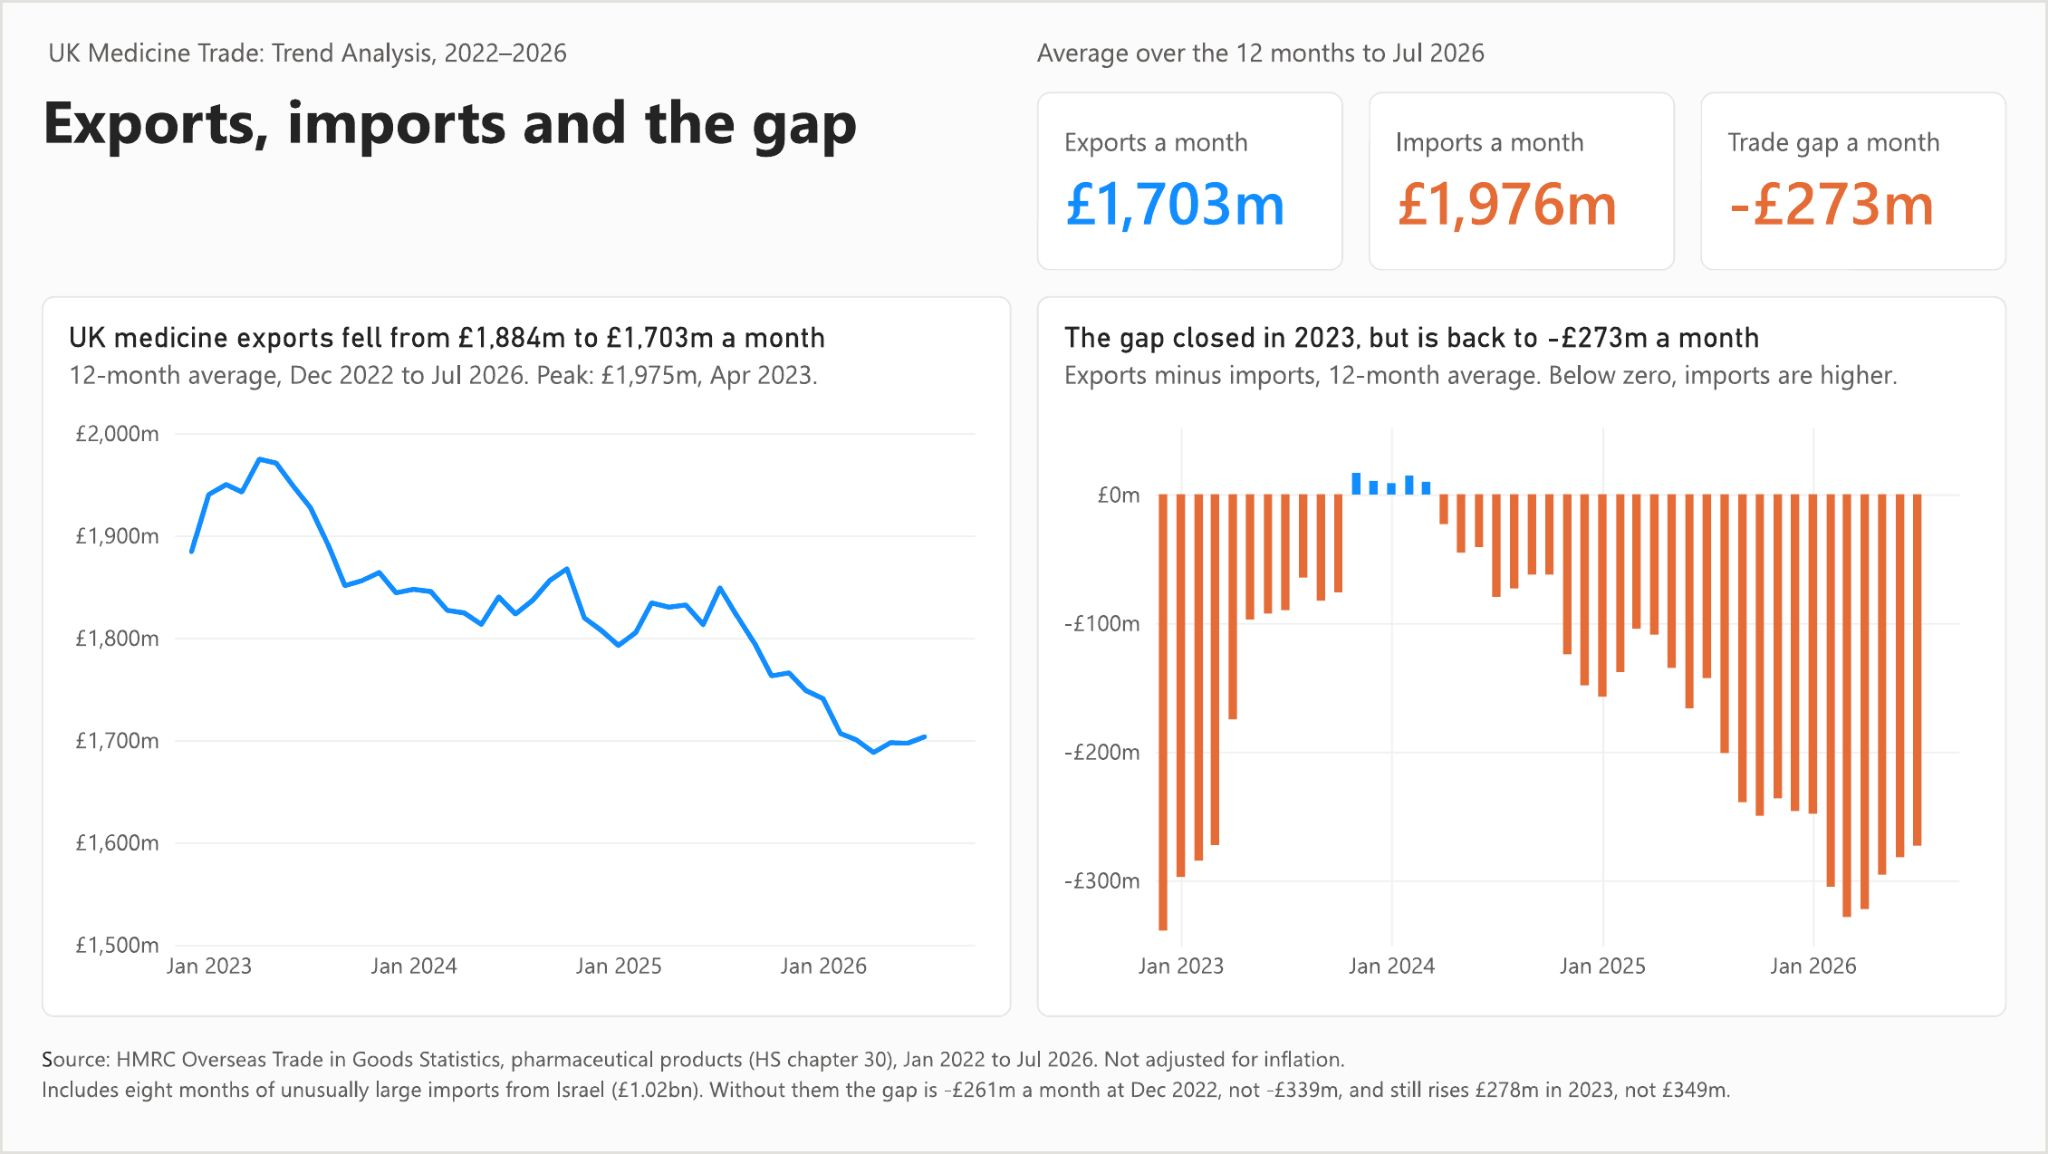

Layout of this report page (visuals, bound fields, positions):
{"tool":"powerbi","page":{"name":"Exports, imports and the gap","canvas":[1280,720],"ordinal":0},"visuals":[{"type":"lineChart","title":"UK medicine exports fell from £1,884m to £1,703m a month","fields":{"Category":["monthly.date"],"Y":["monthly.Exports 12m avg"]},"box":[24,184,608,452],"z":0},{"type":"clusteredColumnChart","title":"The gap closed in 2023, but is back to -£273m a month","fields":{"Category":["monthly.date"],"Y":["monthly.Gap 12m avg"]},"box":[648,184,608,452],"z":1000},{"type":"textbox","box":[24.1,48,608.4,64],"z":2000},{"type":"textbox","box":[28,20,608,28],"z":3000},{"type":"cardVisual","fields":{"Data":["monthly.Exports a month"]},"box":[648,56,192,112],"z":4000},{"type":"cardVisual","fields":{"Data":["monthly.Imports a month"]},"box":[856,56,192,112],"z":5000},{"type":"cardVisual","fields":{"Data":["monthly.Trade gap a month"]},"box":[1064,56,192,112],"z":6000},{"type":"textbox","box":[648,20,608,28],"z":7000},{"type":"textbox","box":[24,652,1232,48],"z":7001}]}

Visuals, with their boxes in screenshot pixels (x1, y1, x2, y2), scaled from the page's 1280x720 canvas onto the 2048x1154 screenshot:
"UK medicine exports fell from £1,884m to £1,703m a month" lineChart: select_region(38, 295, 1011, 1019)
"The gap closed in 2023, but is back to -£273m a month" clusteredColumnChart: select_region(1037, 295, 2010, 1019)
textbox: select_region(39, 77, 1012, 180)
textbox: select_region(45, 32, 1018, 77)
cardVisual - monthly.Exports a month: select_region(1037, 90, 1344, 269)
cardVisual - monthly.Imports a month: select_region(1370, 90, 1677, 269)
cardVisual - monthly.Trade gap a month: select_region(1702, 90, 2010, 269)
textbox: select_region(1037, 32, 2010, 77)
textbox: select_region(38, 1045, 2010, 1122)
